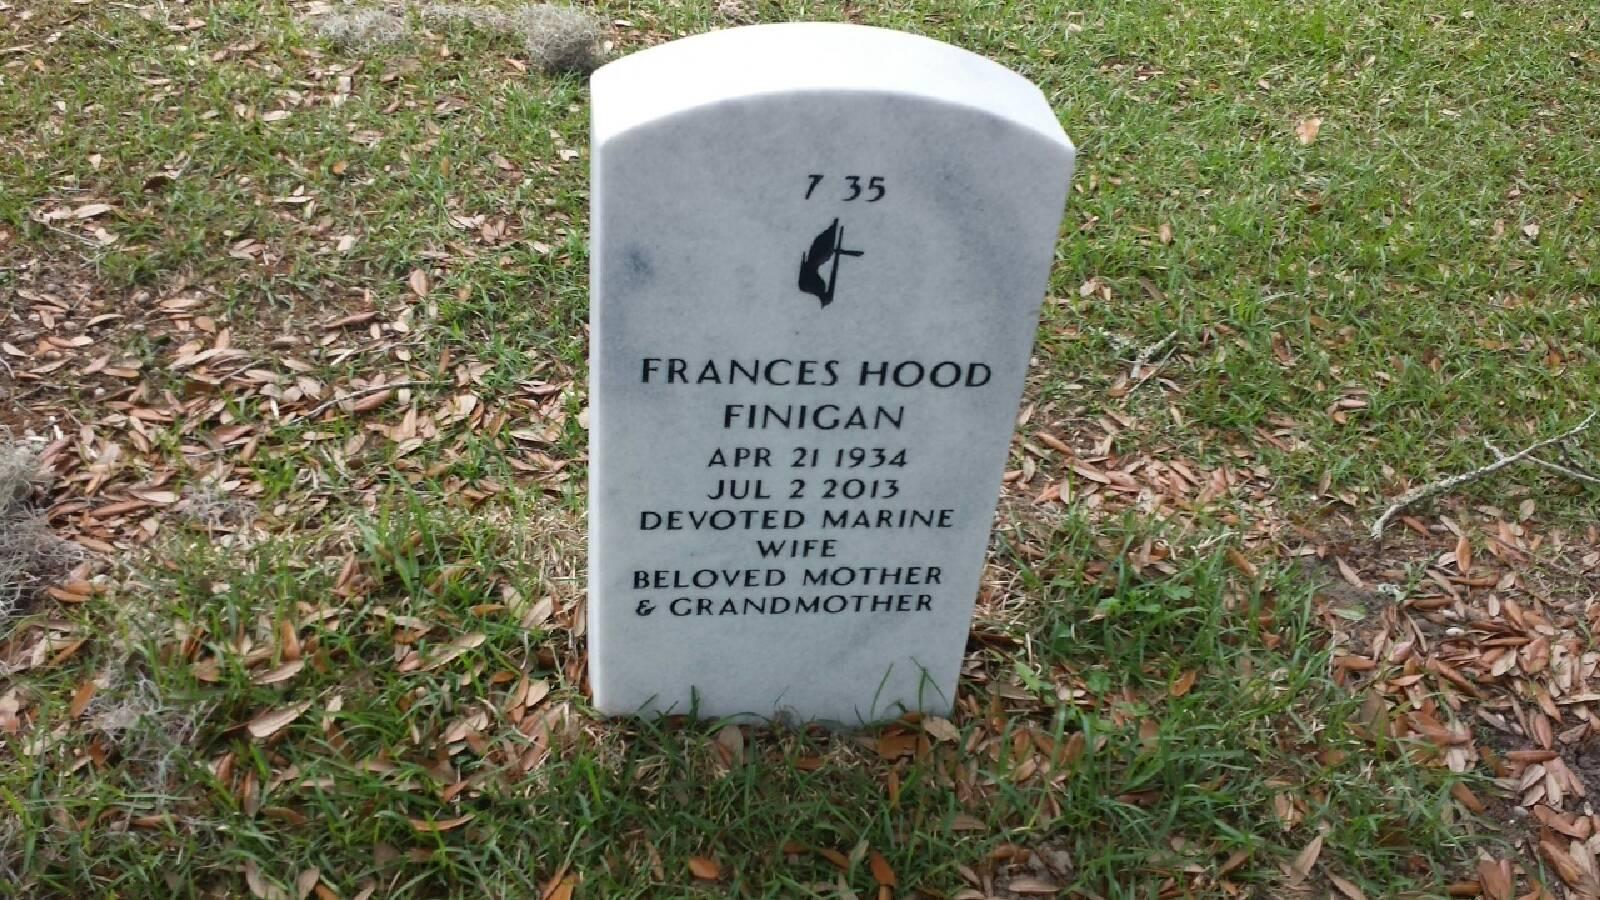military: (557, 14, 1105, 738)
